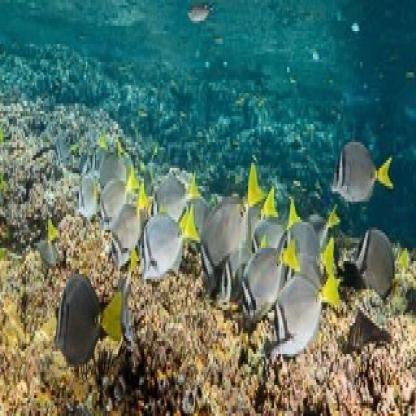Acanthuridae -Surgeonfishes-: (48, 267, 114, 378), (270, 265, 342, 363), (330, 130, 403, 213), (131, 202, 199, 288), (243, 223, 296, 327), (107, 192, 164, 254)
